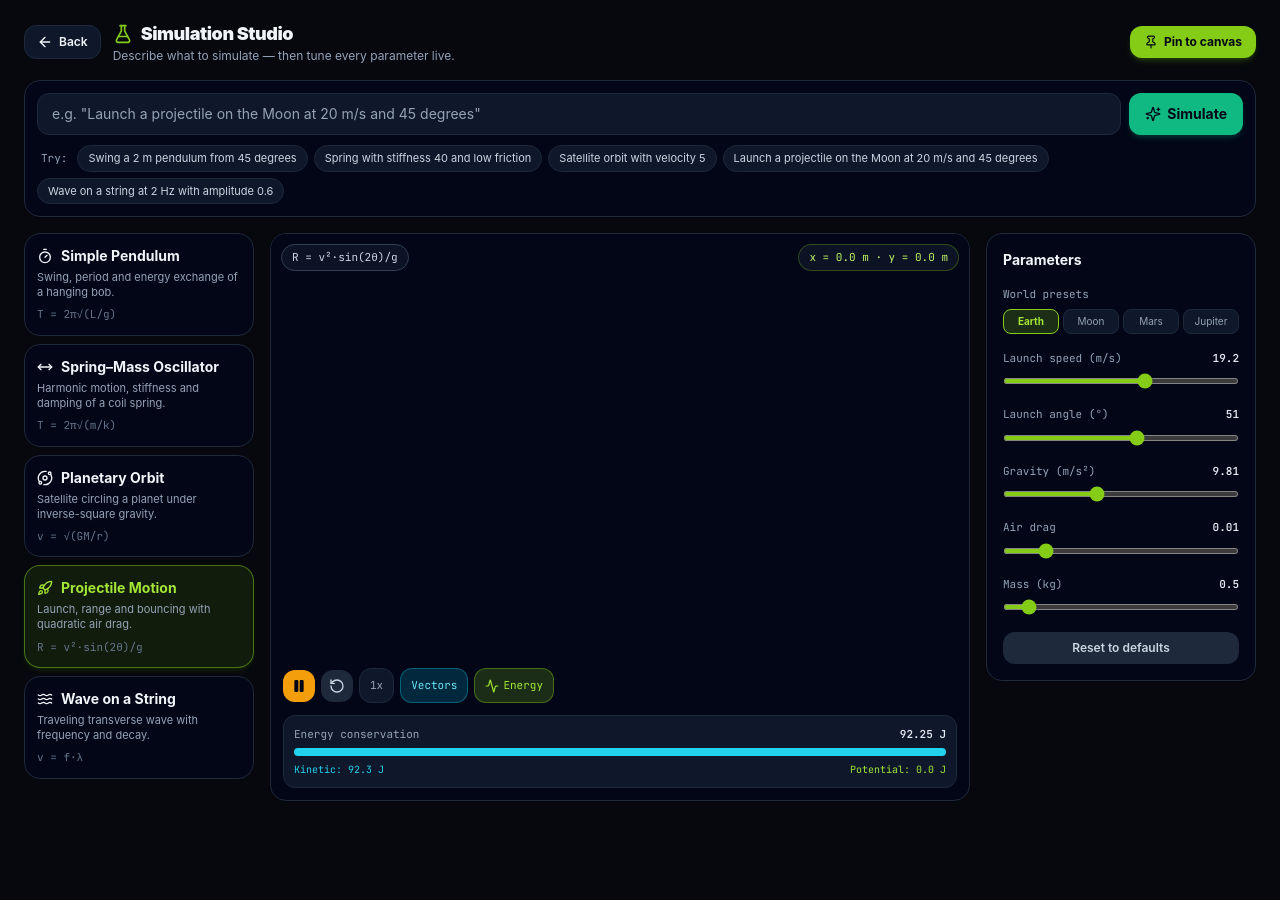
Test: SimulationStudio section › runs a typed requirement and reports the match
Replace the text in the field with placeholder "Launch a projectile on the Moon" with "Wave on a string at 2 Hz". click: (579, 114)
box: [37,93,1121,135]
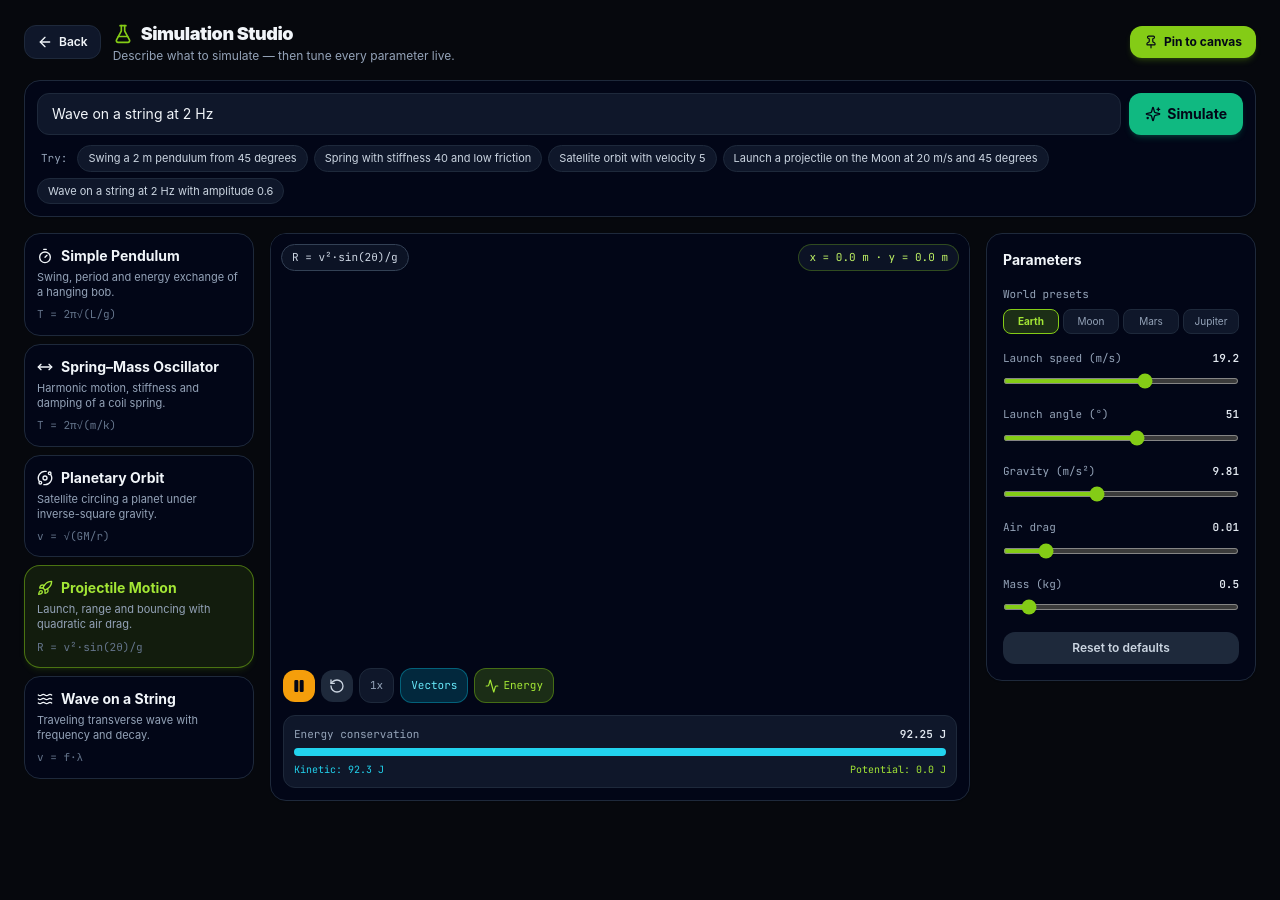
Click the button "Simulate". click: (1186, 114)
box: [1129,93,1243,135]
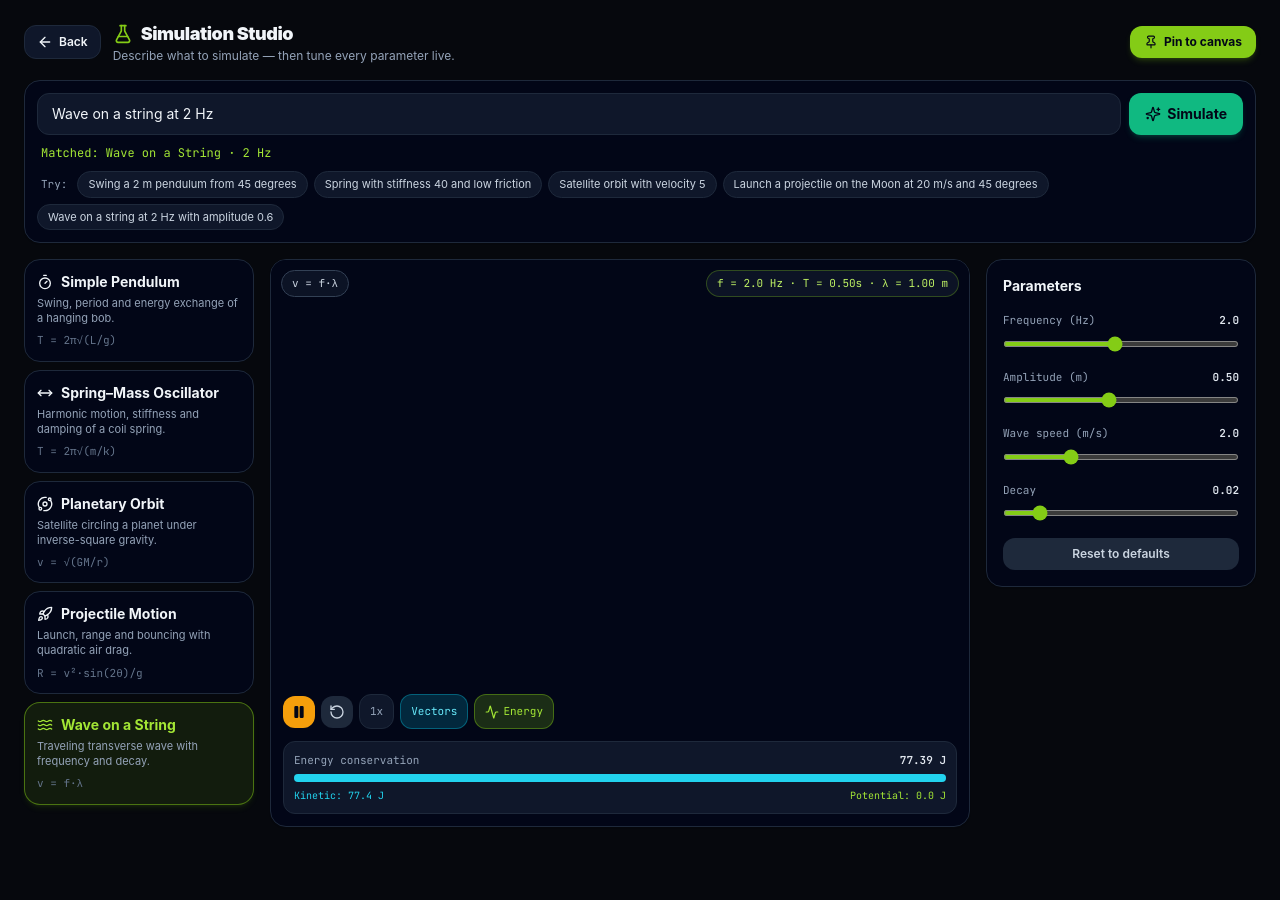
Expected: the text "Matched: Wave on a String · 2 Hz" is shown, [41,145,271,161]
